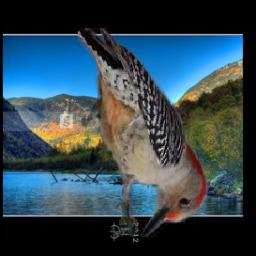Woodpecker: (79, 29, 207, 238)
